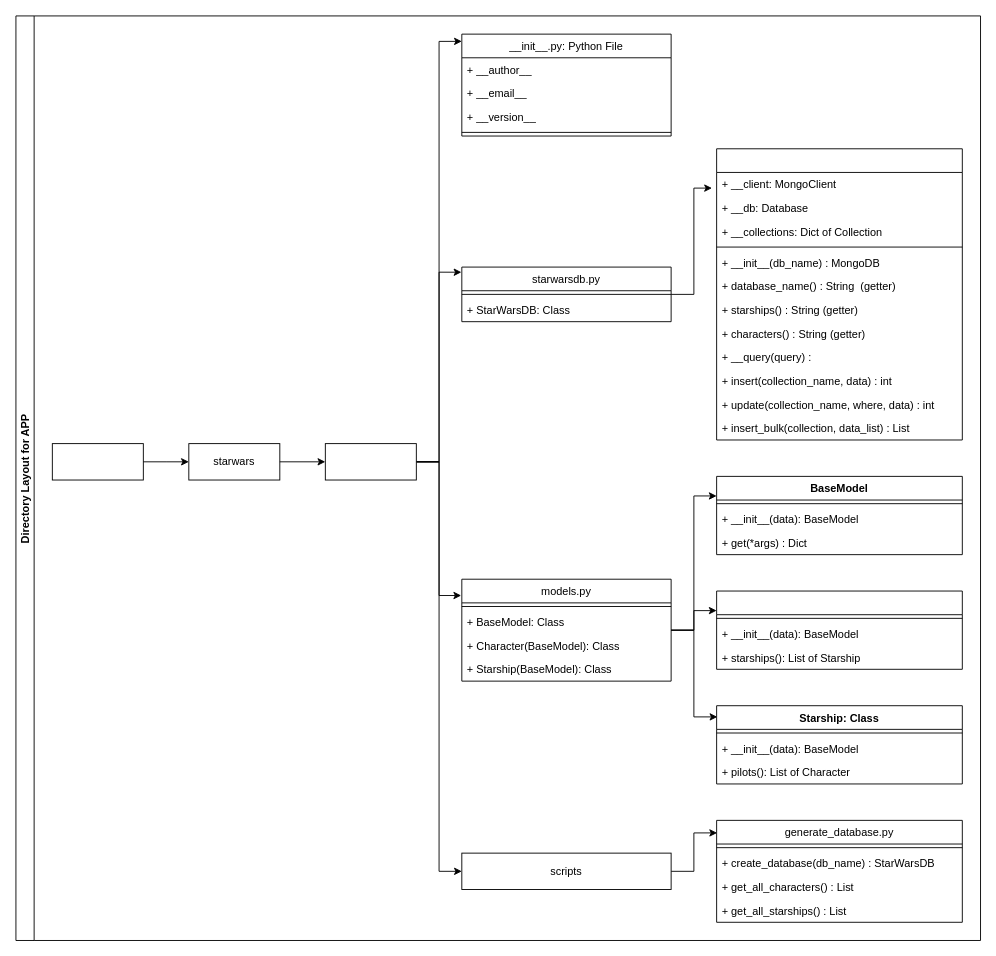
The diagram is 996 pixels wide and 956 high, and some of its shapes have lost their labels. The shapes that lost their labels are listed below. From the top down, each one's box as (x1, y1, x2, y2) in pixels, then its label:
(716, 148, 962, 440): StarWarsDB: Class
(51, 443, 143, 480): Root
(324, 443, 416, 480): app
(716, 590, 962, 669): Character: Class
